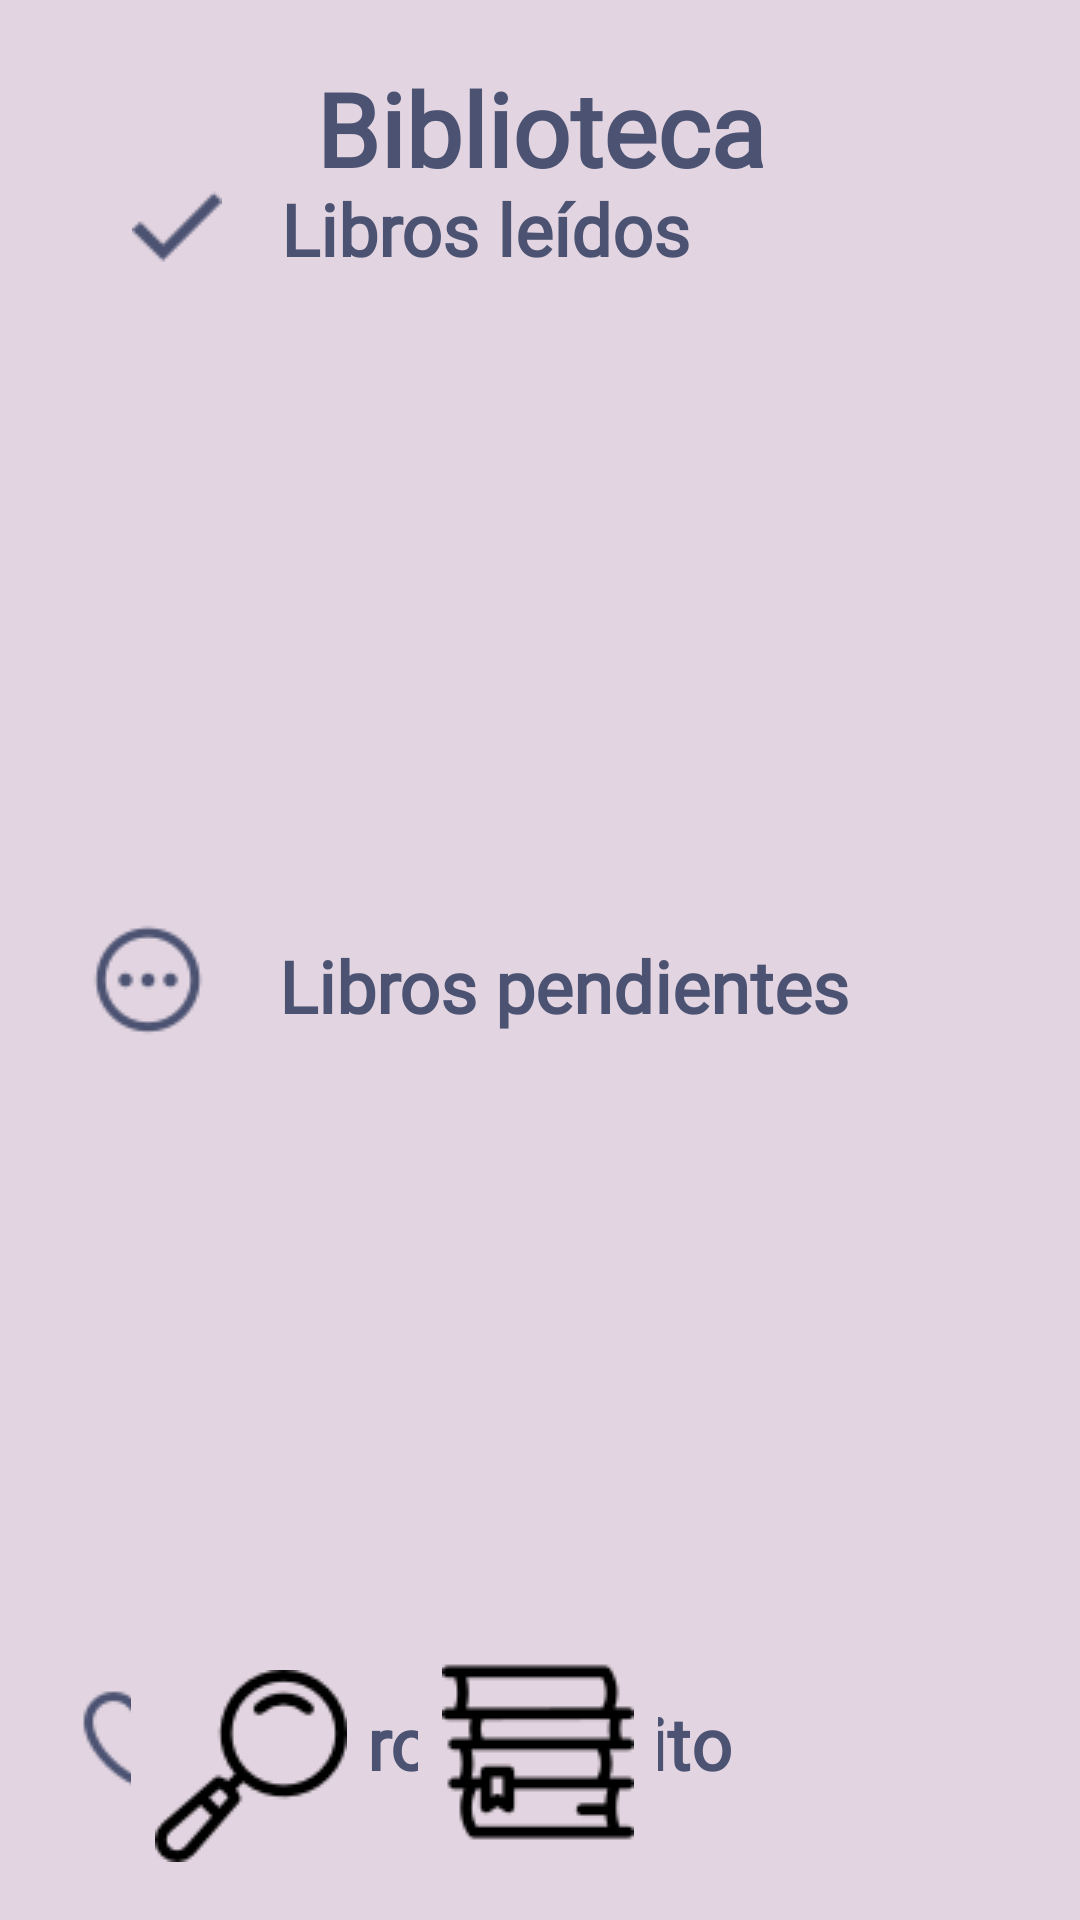

Point at icon controls on the screen. Image size 1080px×1920px, points as (x=x, y=y).
Botón para acceder a tus listas de libros: (x=538, y=1752)
